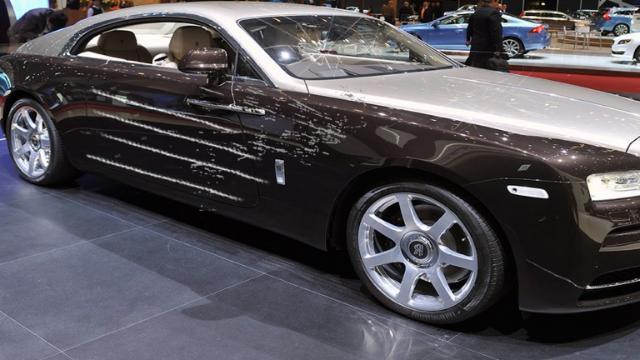Door: (95, 73, 369, 242)
